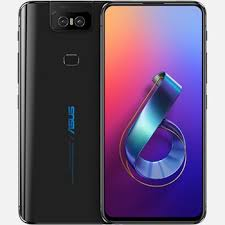asus: (16, 1, 206, 225), (100, 1, 206, 225), (16, 1, 98, 223)
